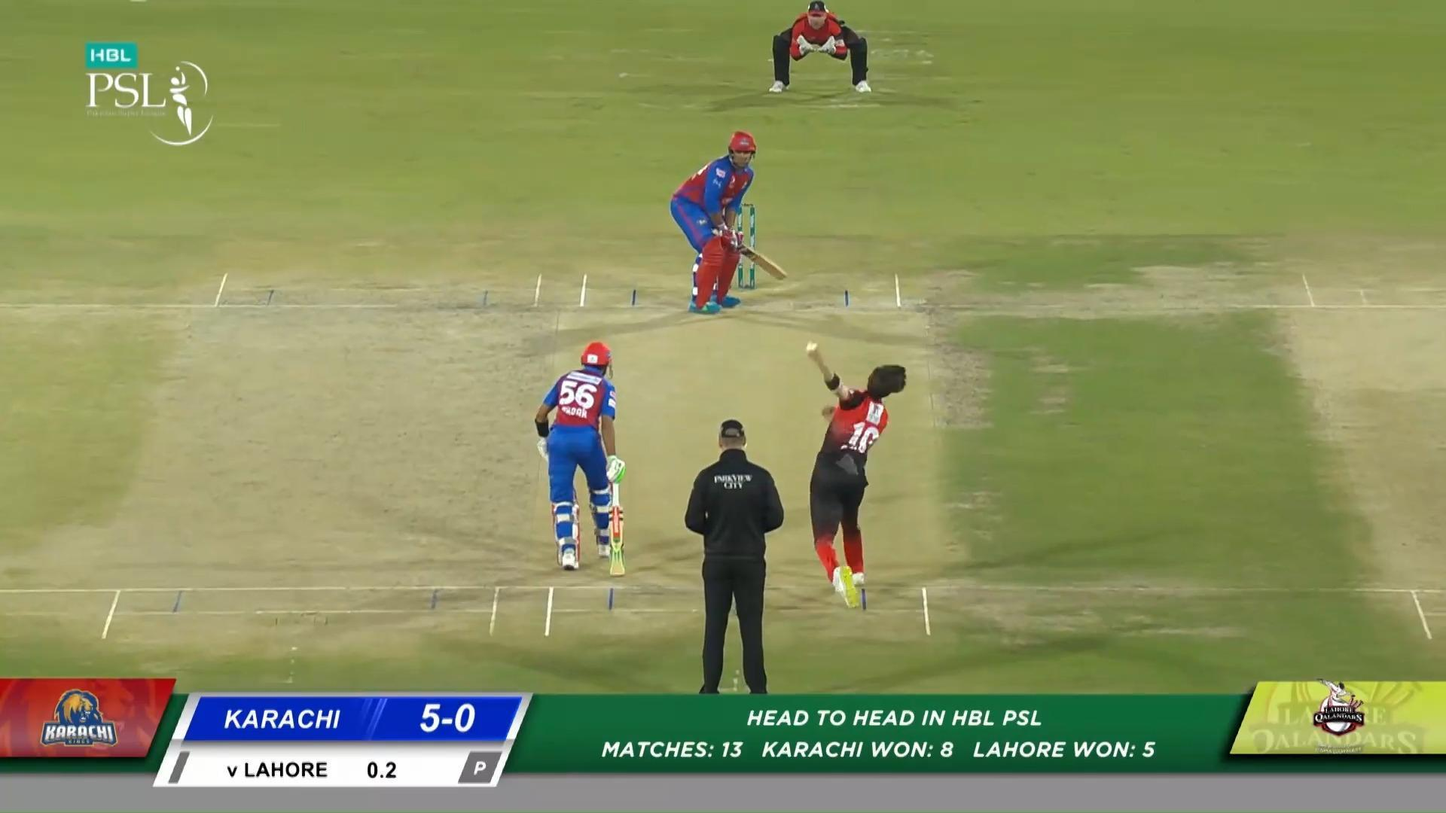BM 1: (670, 129, 788, 315)
BO: (806, 345, 907, 610)
